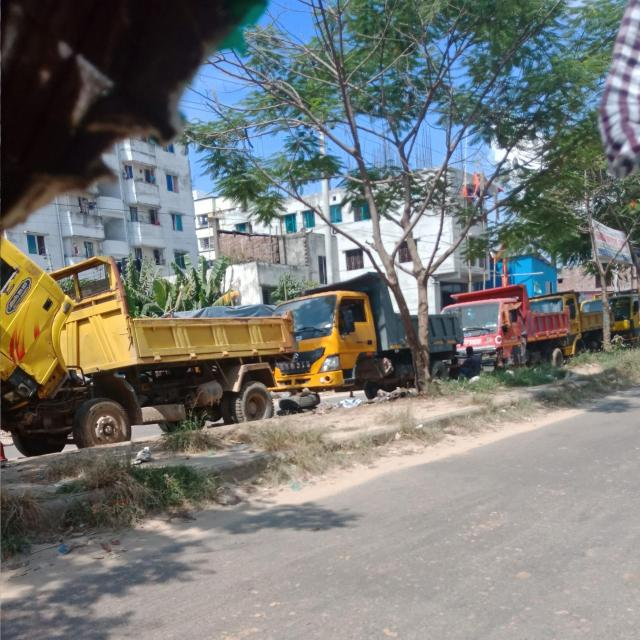truck: (0, 228, 295, 462), (281, 264, 454, 393), (440, 281, 567, 365), (561, 274, 621, 352)
